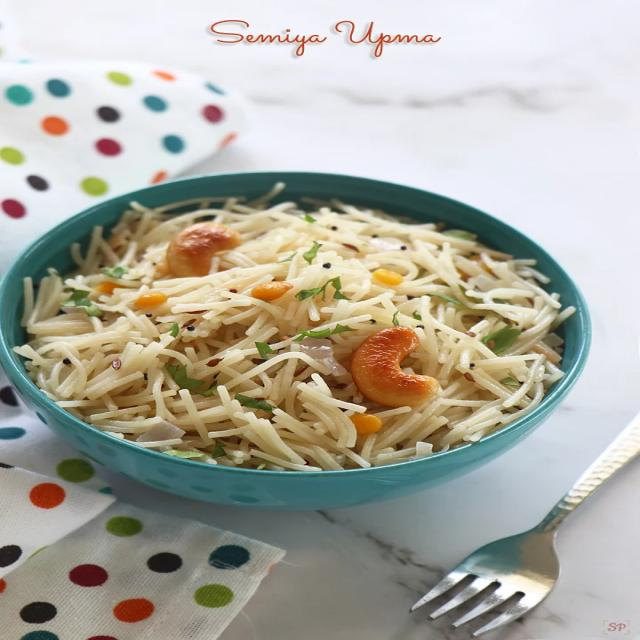POHA: (18, 199, 564, 467)
